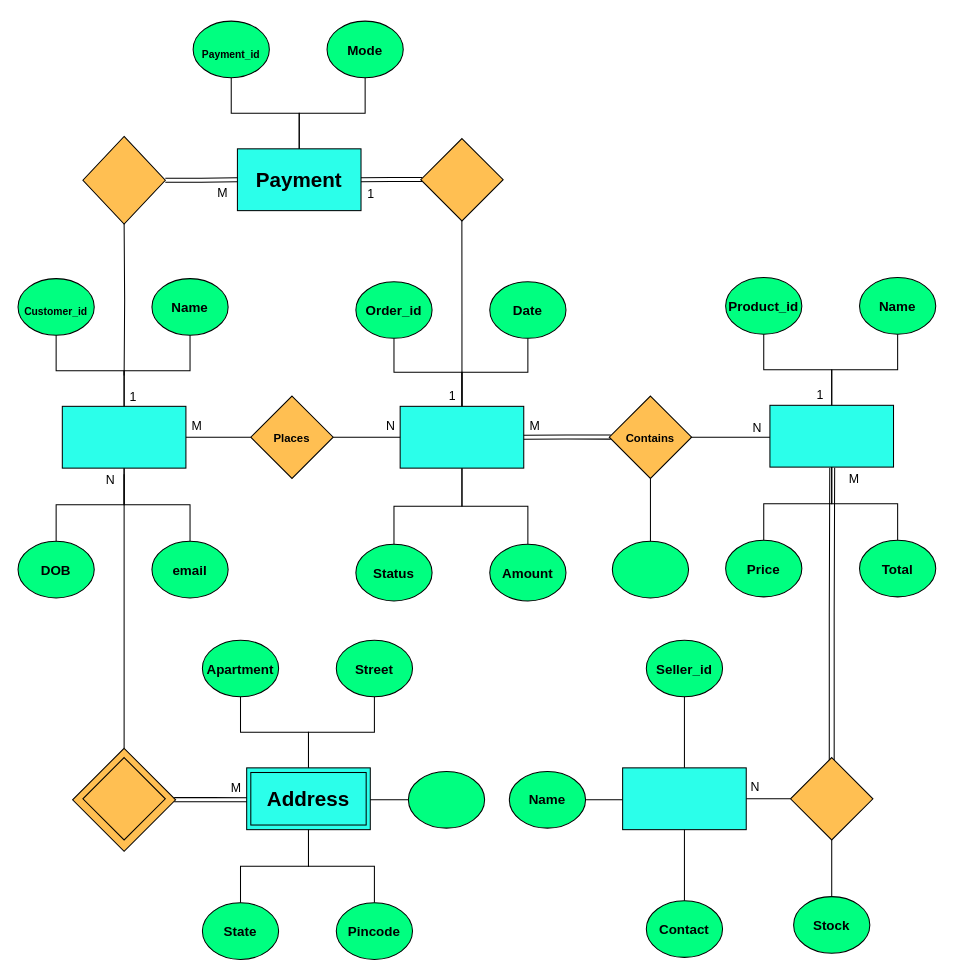
Some shapes in this 954 by 977 pixel diagram are drawn without their labels. The centre of each missing label's shape, as x and y in pixels:
City: point 446,799
Counts: point 650,569
Customer: point 123,436
For: point 461,179
Makes: point 123,179
Orders: point 461,436
Product: point 831,435
Resides_at: point 123,798
Seller: point 684,798
Sells: point 831,798
